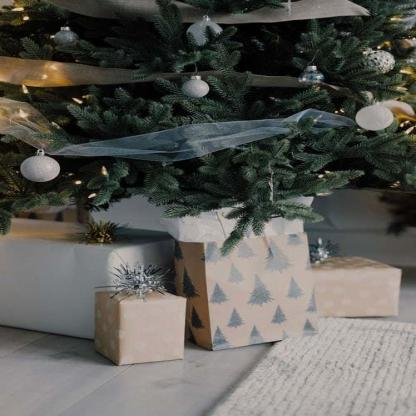present: (166, 218, 340, 397), (0, 228, 163, 334), (82, 283, 190, 383), (315, 249, 403, 325)
x_mas tree: (18, 6, 415, 262)
